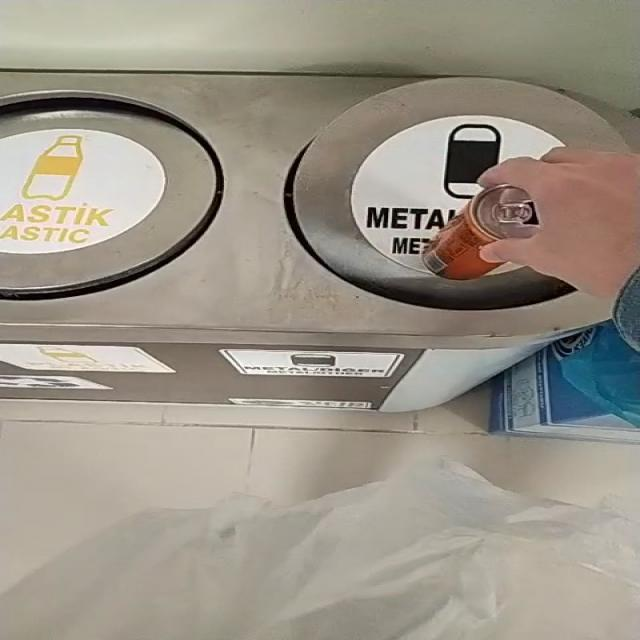Bin: (0, 71, 627, 412)
Metal: (424, 184, 540, 280)
